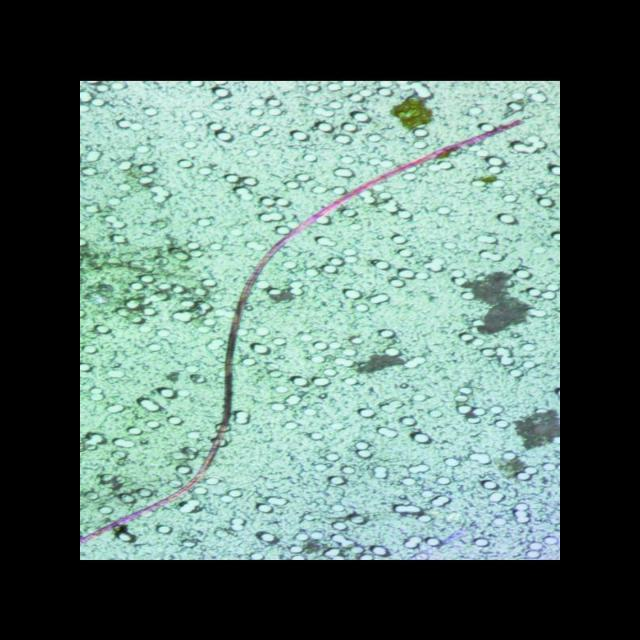Fibre: (80, 116, 530, 560)
